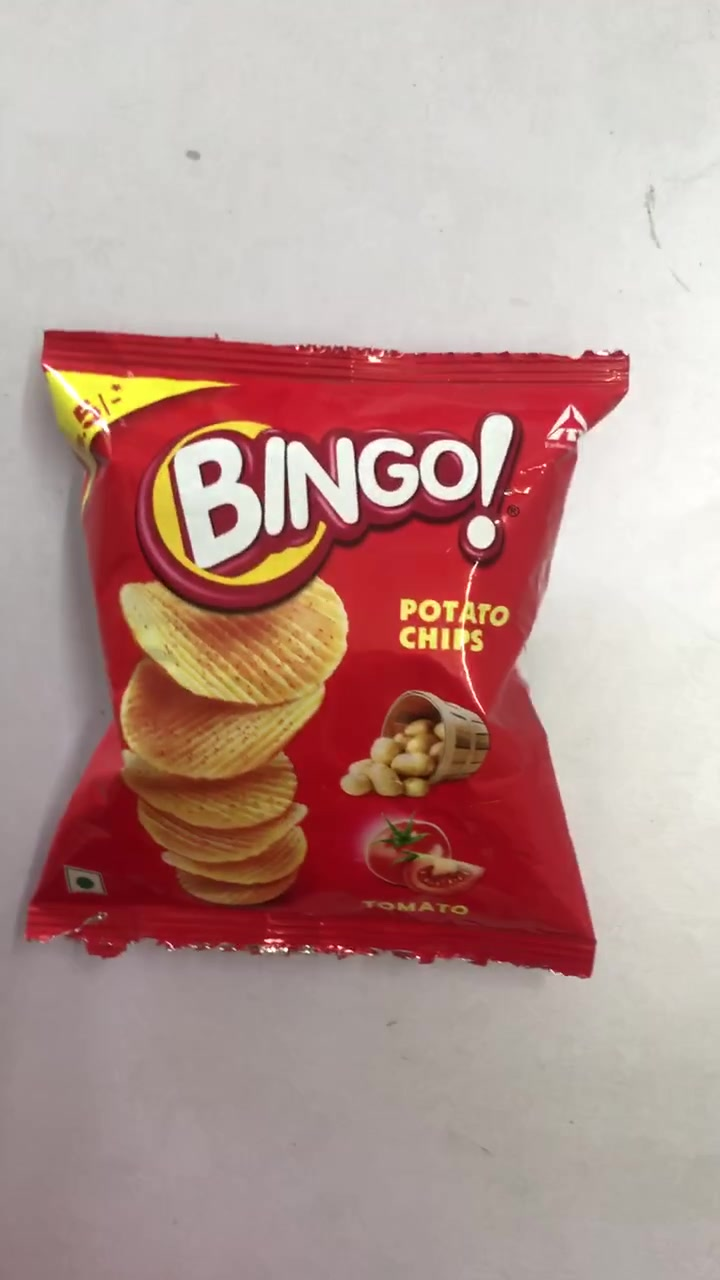Bingo: (42, 334, 592, 955)
